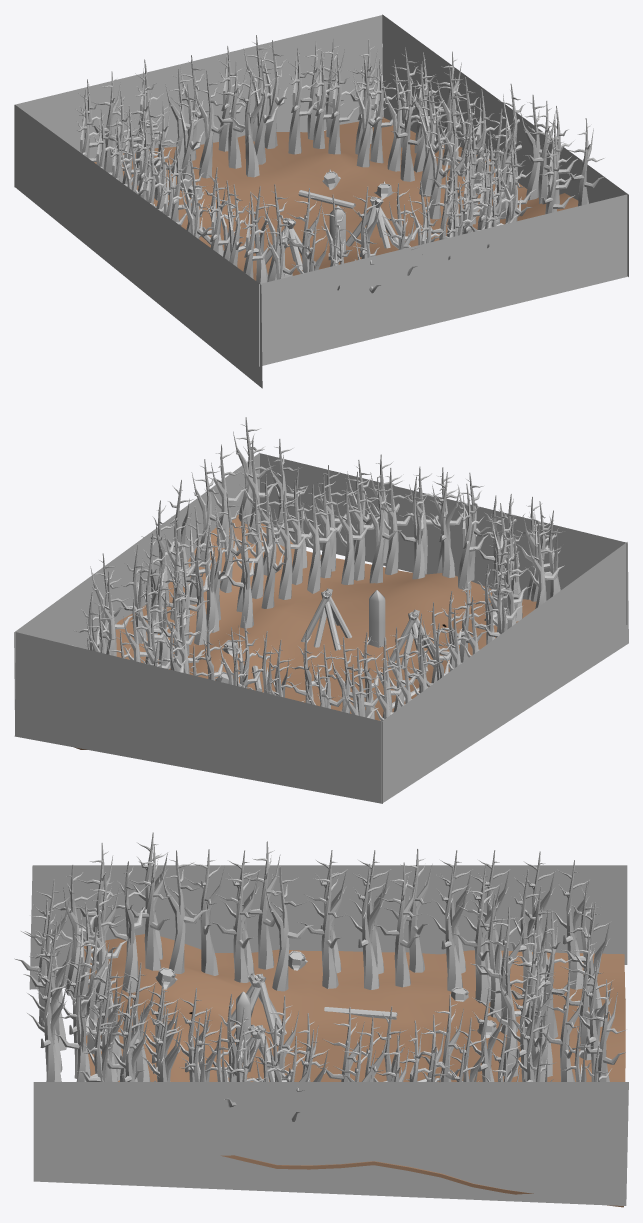
File: BosqueSectario_Jefe.fbx
The picture shows the model from 3 angles, top to bottom: view 1: azimuth 30°, elevation 25°; view 2: azimuth 150°, elevation 25°; view 3: azimuth 270°, elevation 25°; orthographic projection. The views are drawn at different scales.
Parts seen in each view (by area): view 1: FondoNegro_Geo, FondoNegro_03_Geo, Suelo_Geo, FondoNegro_04_Geo, FondoNegro_02_Geo, Arbol_73, Arbol_68, Arbol_30, Arbol_70, Arbol_26, Arbol_72, Arbol_86 (+48 smaller); view 2: FondoNegro_04_Geo, FondoNegro_03_Geo, Suelo_Geo, FondoNegro_Geo, FondoNegro_02_Geo, Hoguera_Geo, Arbol_09, Arbol_08, Arbol_06, Arbol_04, Arbol_07, Arbol_03 (+58 smaller); view 3: FondoNegro_02_Geo, Suelo_Geo, FondoNegro_03_Geo, Arbol_12, Arbol_11, Arbol_15, Arbol_01_Geo, Arbol_02_Geo, Arbol_14, Arbol_57, Arbol_10, Arbol_58 (+67 smaller).
Part boxes in pixels (x1,y1,x2,y2): FondoNegro_Geo: [259, 194, 627, 366]; FondoNegro_03_Geo: [15, 105, 262, 388]; Suelo_Geo: [94, 117, 578, 280]; FondoNegro_04_Geo: [14, 15, 382, 187]; FondoNegro_02_Geo: [382, 14, 628, 276]; Arbol_73: [194, 70, 230, 178]; Arbol_68: [288, 47, 319, 154]; Arbol_30: [351, 63, 384, 167]; Arbol_70: [226, 71, 264, 177]; Arbol_26: [390, 75, 429, 181]; Arbol_72: [213, 61, 252, 168]; Arbol_86: [260, 40, 287, 148]; FondoNegro_04_Geo: [14, 632, 382, 803]; FondoNegro_03_Geo: [381, 542, 628, 803]; Suelo_Geo: [74, 514, 536, 749]; FondoNegro_Geo: [260, 453, 627, 624]; FondoNegro_02_Geo: [14, 452, 259, 709]; Hoguera_Geo: [301, 588, 351, 650]; Arbol_09: [271, 491, 309, 599]; Arbol_08: [299, 484, 338, 593]; Arbol_06: [364, 477, 401, 583]; Arbol_04: [424, 472, 459, 577]; Arbol_07: [332, 482, 371, 584]; Arbol_03: [456, 483, 488, 589]; FondoNegro_02_Geo: [33, 1082, 628, 1205]; Suelo_Geo: [84, 934, 625, 1207]; FondoNegro_03_Geo: [29, 865, 627, 989]; Arbol_12: [264, 866, 313, 991]; Arbol_11: [298, 862, 345, 988]; Arbol_15: [373, 862, 421, 987]; Arbol_01_Geo: [106, 861, 147, 992]; Arbol_02_Geo: [128, 844, 172, 970]; Arbol_14: [345, 863, 385, 989]; Arbol_57: [236, 841, 284, 969]; Arbol_10: [160, 850, 209, 973]; Arbol_58: [184, 849, 224, 975].
Size of the model in its own units: 135 by 55.94 by 157.
